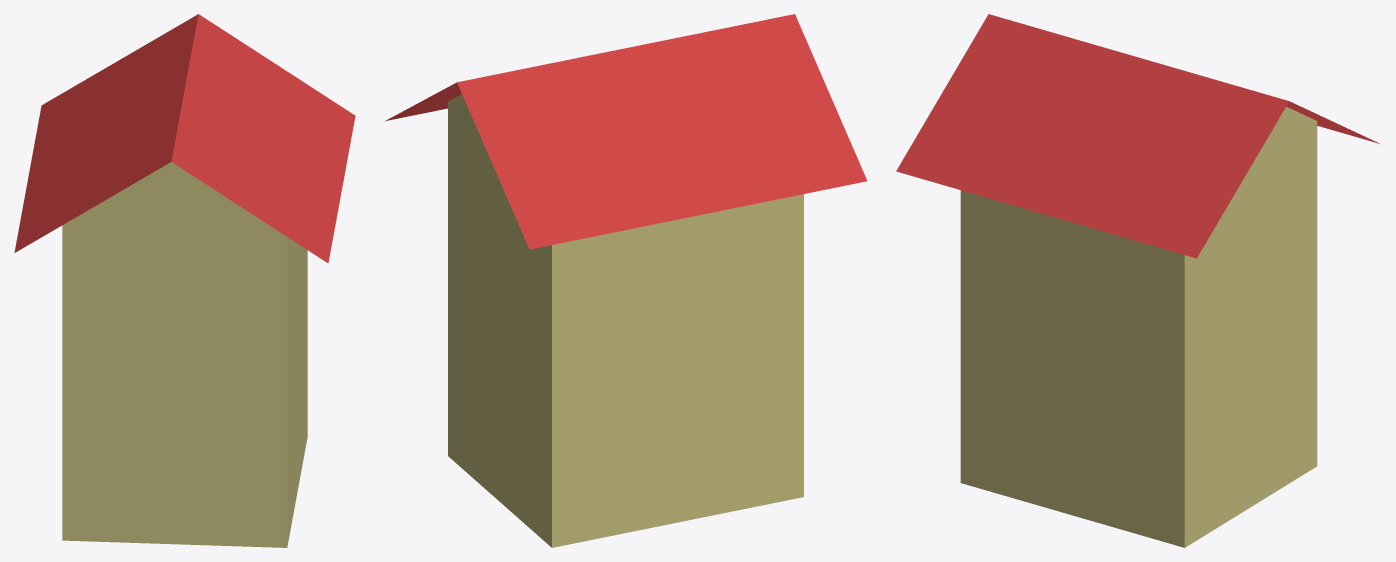
3 renders of one model, left to right at view 1: azimuth 30°, elevation 25°; view 2: azimuth 150°, elevation 25°; view 3: azimuth 270°, elevation 25°, orthographic. The views are drawn at different scales.
Visible parts, largest first — view 1: group_5, group_3, group_4; view 2: group_5, group_3, group_4; view 3: group_5, group_3, group_4.
Boxes of the visible parts, left/top/right/bottom form: group_5: left=62, top=162, right=307, bottom=547; group_3: left=41, top=14, right=343, bottom=262; group_4: left=14, top=14, right=355, bottom=262; group_5: left=448, top=94, right=803, bottom=547; group_3: left=385, top=15, right=867, bottom=249; group_4: left=498, top=14, right=866, bottom=249; group_5: left=960, top=106, right=1317, bottom=547; group_3: left=896, top=14, right=1378, bottom=258; group_4: left=896, top=90, right=1379, bottom=258.
Bounding box in the file's own units: 15.36 × 15.67 × 14.84.
